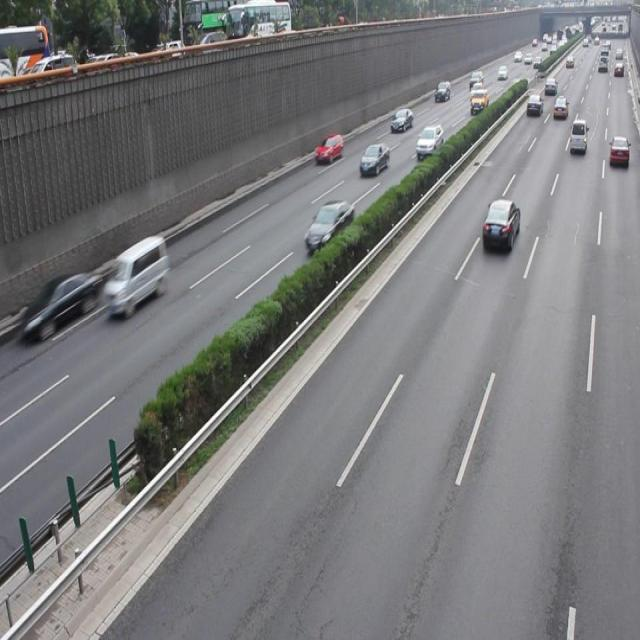car: (19, 267, 100, 340), (303, 200, 355, 253), (481, 197, 520, 252), (358, 142, 389, 177), (314, 131, 342, 163), (607, 134, 628, 171)
truck: (103, 234, 169, 315)
